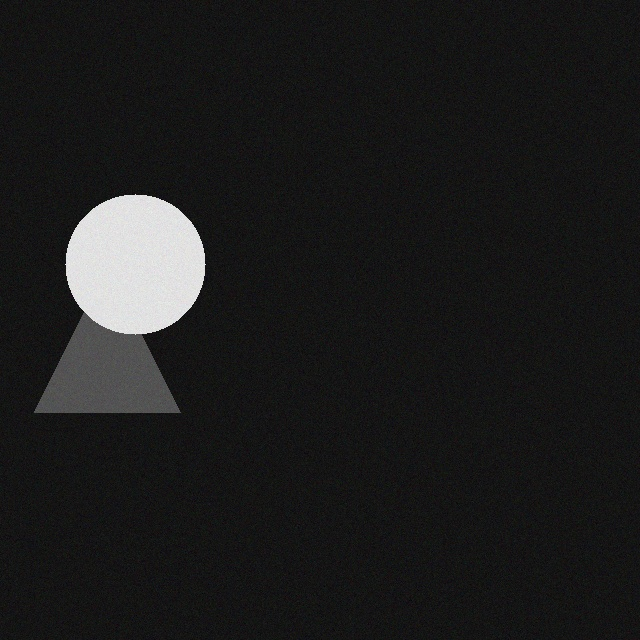circle: (67, 198, 207, 338)
triangle: (36, 270, 182, 416)
